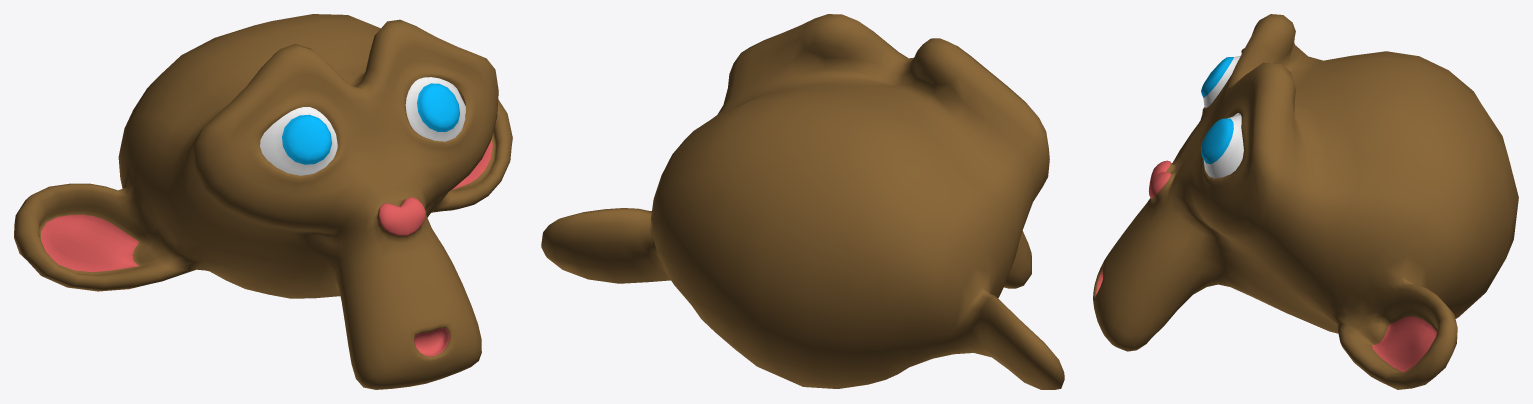
Rendered from Suzanne.glb.
The picture shows the model from 3 angles, left to right: view 1: azimuth 30°, elevation 25°; view 2: azimuth 150°, elevation 25°; view 3: azimuth 270°, elevation 25°; orthographic projection. The views are drawn at different scales.
Parts seen in each view (by area): view 1: Suzanne; view 2: Suzanne; view 3: Suzanne.
Boxes of the visible parts, box(x1,y1,x2,y2) form: Suzanne: box(14, 14, 512, 389); Suzanne: box(541, 14, 1064, 389); Suzanne: box(1093, 14, 1518, 389).
Bounding box in the file's own units: 18.4 × 10.43 × 13.87.
